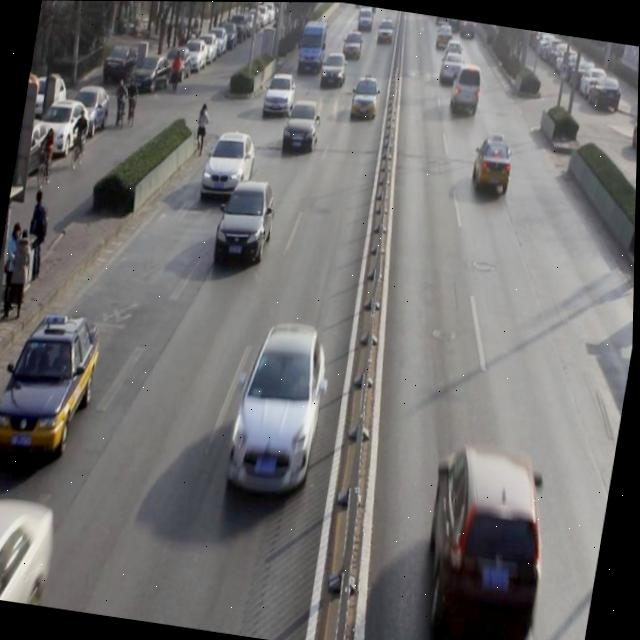car: (418, 442, 566, 640), (225, 323, 335, 504), (0, 311, 106, 468), (215, 178, 280, 268), (202, 128, 260, 201), (471, 133, 517, 199), (282, 98, 325, 158), (347, 72, 384, 125), (261, 68, 298, 119), (319, 49, 350, 93), (439, 48, 467, 88), (340, 27, 366, 63)
truck: (295, 16, 332, 78), (448, 59, 485, 117)
